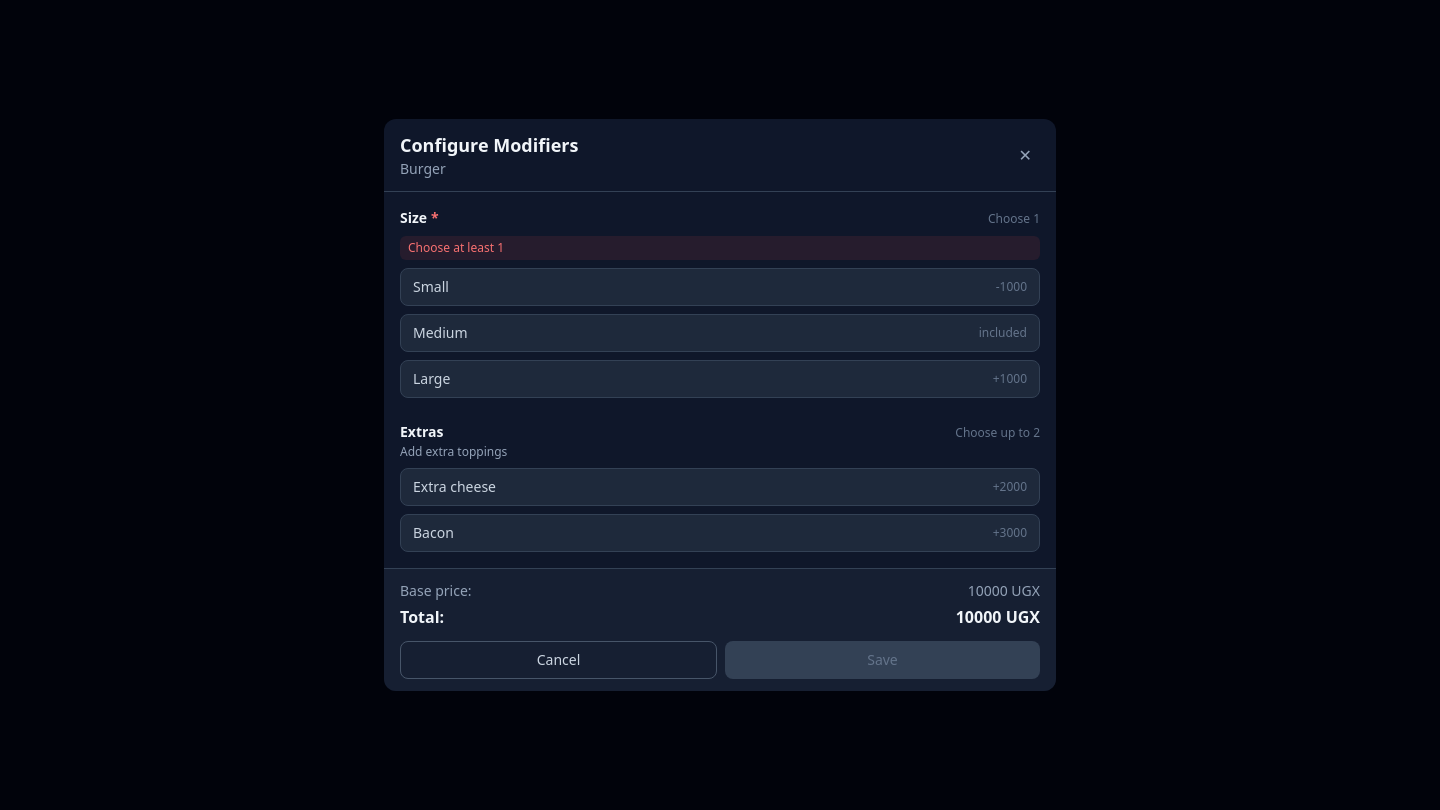
Test case: PosItemModifiersDrawer › computes price summary correctly
The image size is (1440, 810).
Expected: the text "Base price:" is shown, [400,581,472,601]
Expected: the text "10000 UGX" in the row of "Base price:" is shown, [968,581,1040,601]
Select large (+1000)
Click the text "Large".
click(432, 379)  # box [413,369,450,389]
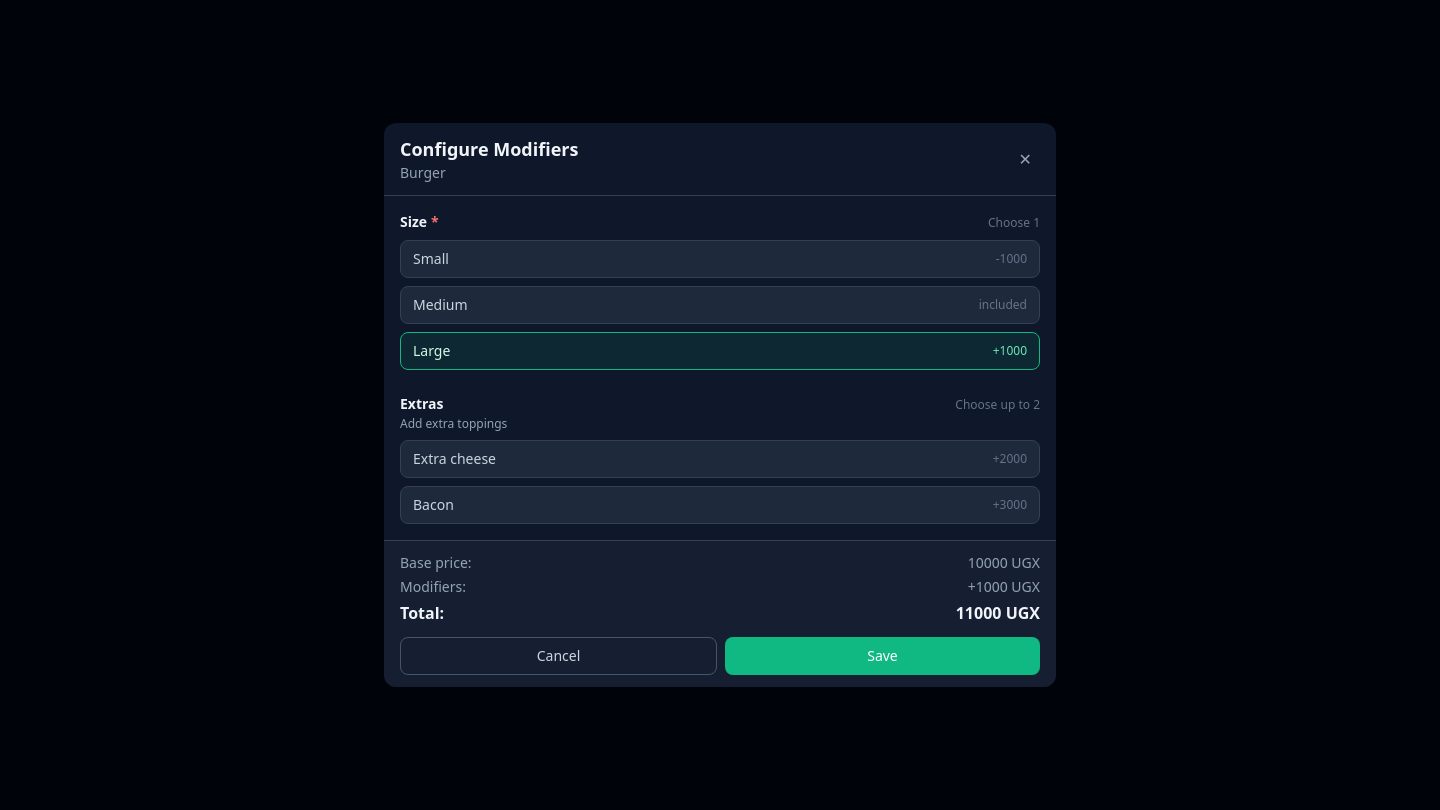
Expected: the text "+1000 UGX" is shown, [968,577,1040,597]
Expected: the text "11000 UGX" is shown, [956,601,1040,625]
Select extra cheese (+2000)
Click the text "Extra cheese".
click(454, 459)  # box [413,449,496,469]
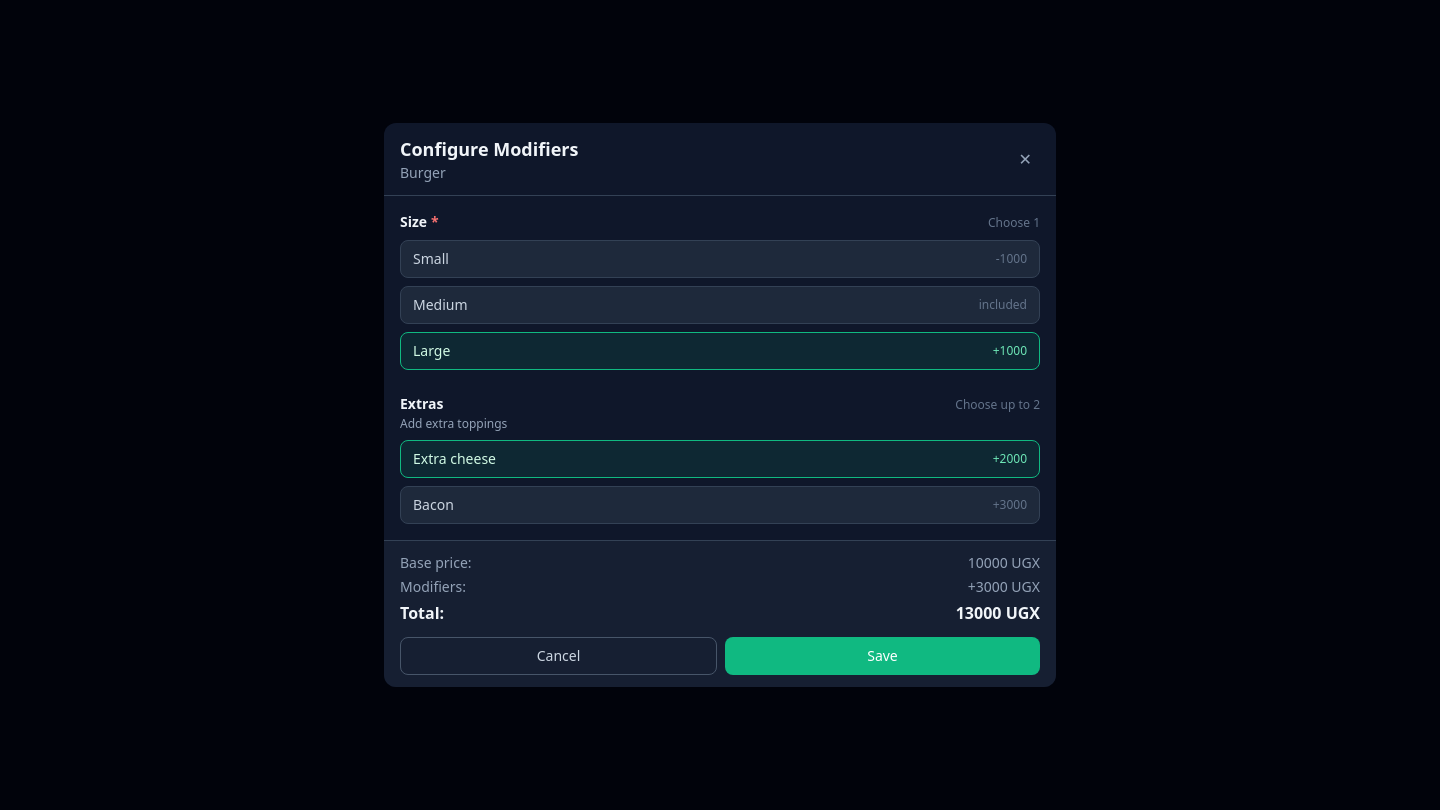
Expected: the text "+3000 UGX" is shown, [968,577,1040,597]
Expected: the text "13000 UGX" is shown, [956,601,1040,625]
